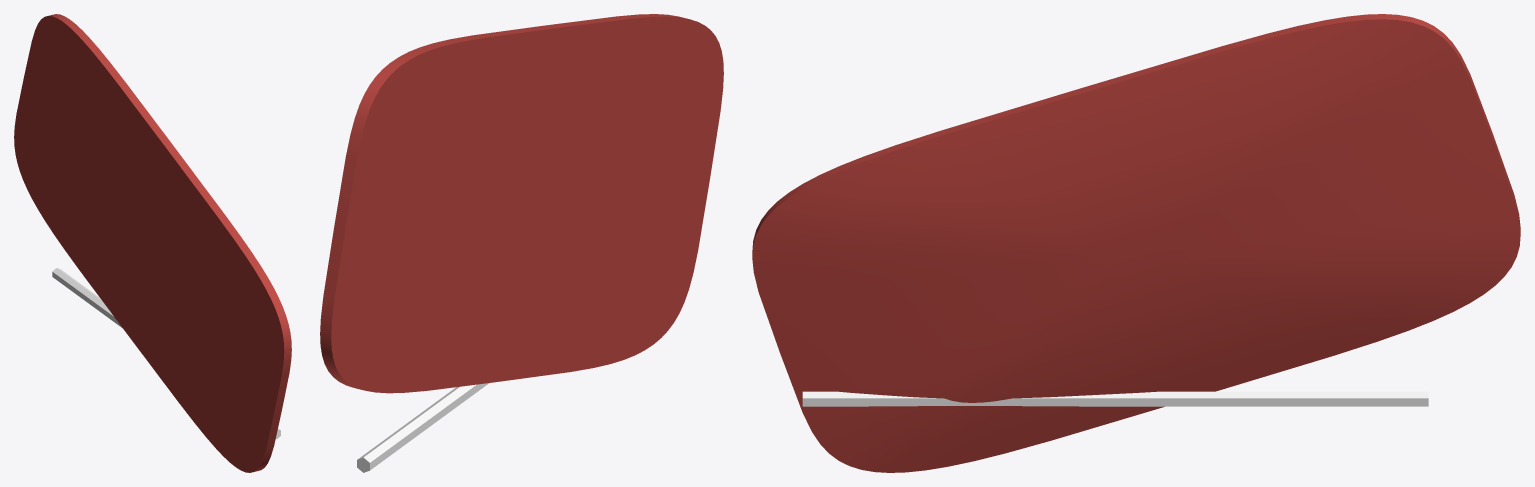
File: cowl.glb
3 views of the same model, side by side, from view 1: azimuth 30°, elevation 25°; view 2: azimuth 150°, elevation 25°; view 3: azimuth 270°, elevation 25° (orthographic). The views are drawn at different scales.
Visible parts, largest first — view 1: lod0; view 2: lod0; view 3: lod0.
Boxes of the visible parts, x1,y1,x2,y2 form: lod0: (14,14,291,472); lod0: (320,14,723,472); lod0: (752,14,1520,472).
Size of what is drawn, in the model's own units: 0.0158 by 0.24 by 0.3684.
